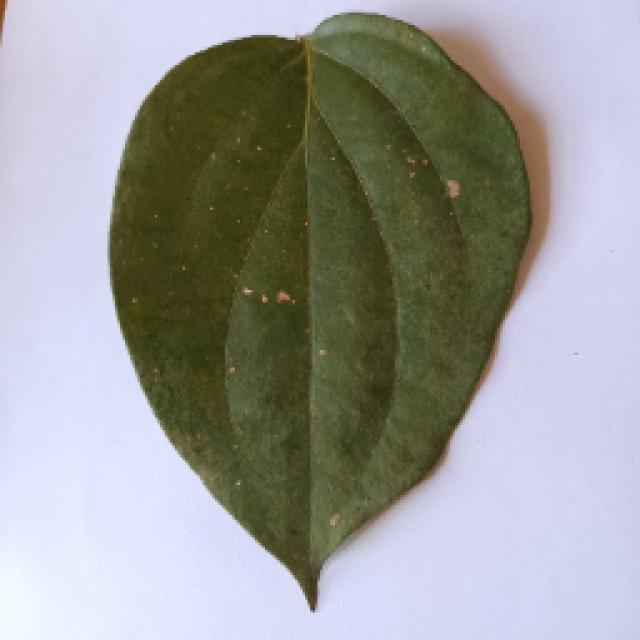pollu-disease: (80, 25, 545, 607)
